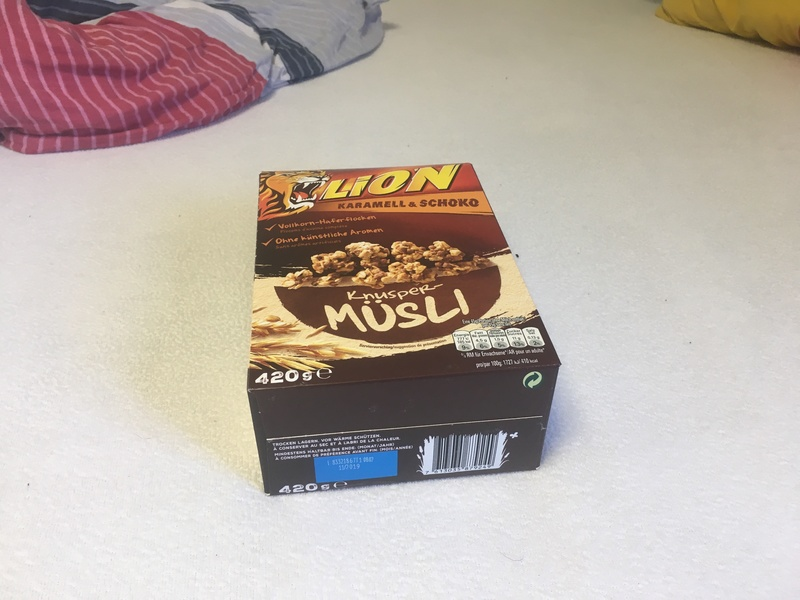cereals: (247, 162, 560, 497)
